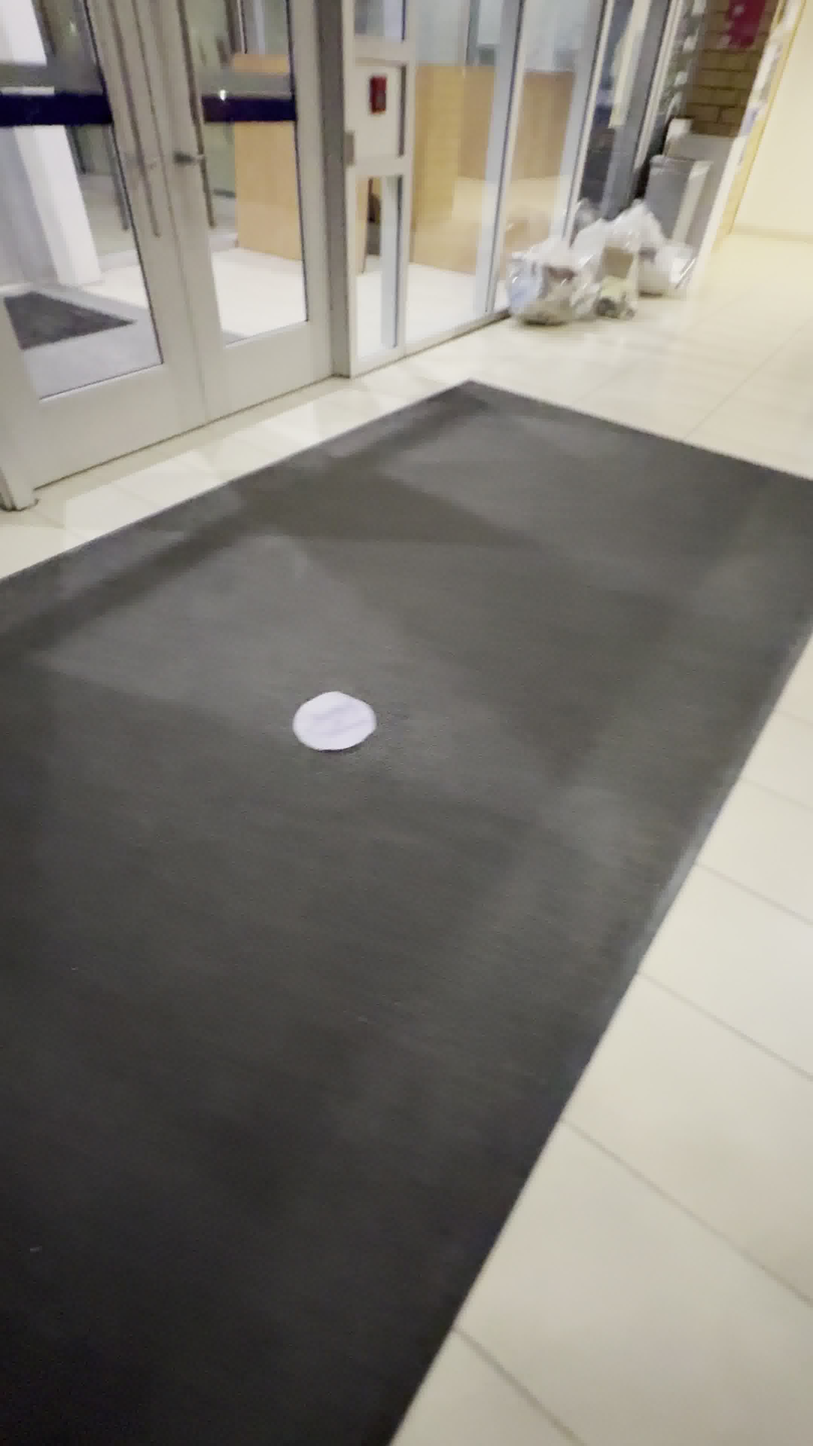Target: (290, 690, 378, 753)
